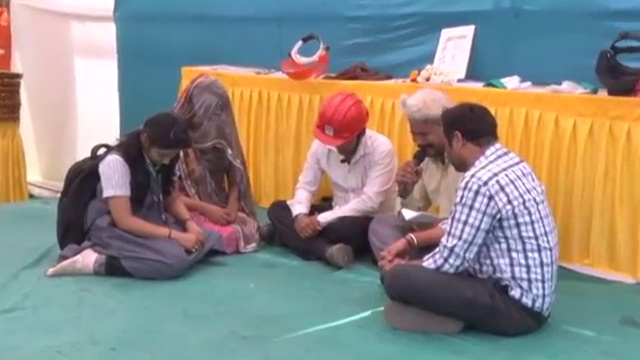helmet: (308, 86, 371, 143)
helmet_off: (444, 102, 500, 172), (179, 79, 235, 147), (405, 84, 451, 164), (133, 109, 190, 169)
helmet_on: (312, 87, 375, 161)
person: (373, 87, 560, 332), (46, 106, 215, 279), (261, 88, 411, 267), (369, 83, 471, 271), (160, 72, 260, 257)
